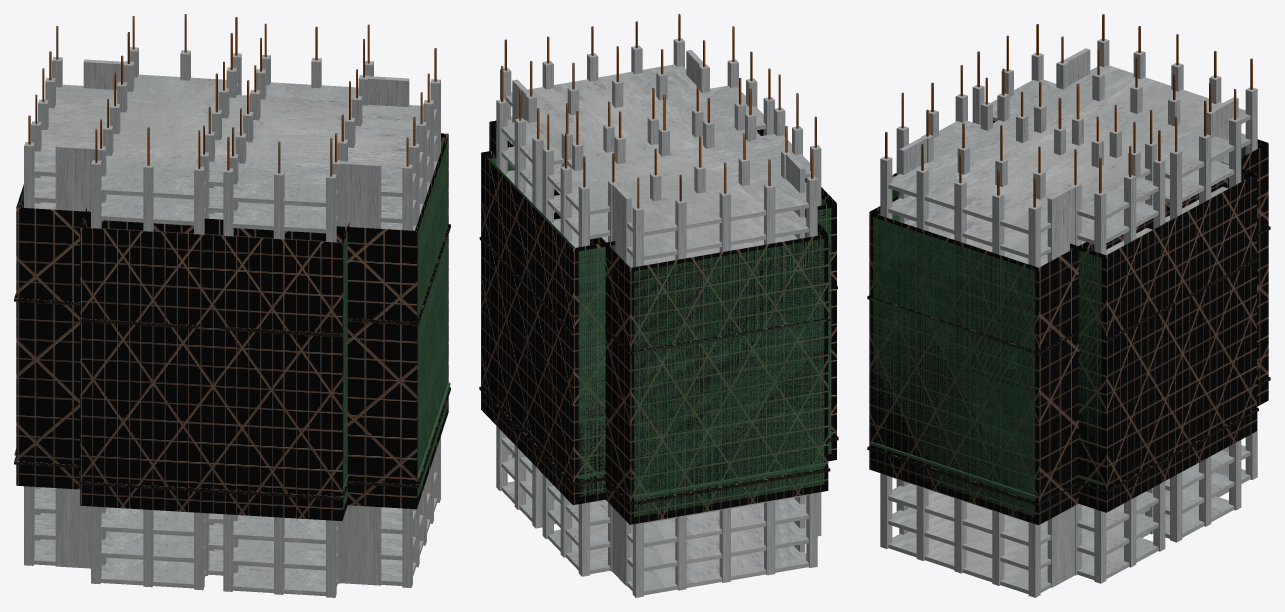
Rendered from syr2.fbx.
3 renders of one model, left to right at view 1: azimuth 30°, elevation 25°; view 2: azimuth 150°, elevation 25°; view 3: azimuth 270°, elevation 25°, orthographic. The views are drawn at different scales.
Visible parts, largest first — view 1: 建筑工地1防尘帄, syrplant, syrplan, 建筑工地1钢筋; view 2: 建筑工地1防尘帄, syrplant, syrplan, 建筑工地1钢筋; view 3: 建筑工地1防尘帄, syrplant, syrplan, 建筑工地1钢筋.
Part boxes in pixels (x1,y1,x2,y2): 建筑工地1防尘帄: [14, 133, 450, 520]; syrplant: [24, 47, 440, 597]; syrplan: [14, 139, 450, 509]; 建筑工地1钢筋: [28, 14, 436, 176]; 建筑工地1防尘帄: [479, 120, 838, 524]; syrplant: [496, 38, 821, 597]; syrplan: [487, 124, 832, 516]; 建筑工地1钢筋: [501, 14, 816, 208]; 建筑工地1防尘帄: [867, 121, 1270, 525]; syrplant: [880, 38, 1257, 597]; syrplan: [871, 143, 1263, 516]; 建筑工地1钢筋: [885, 14, 1252, 207].
Bounding box in the file's own units: 572 × 618 × 534.
Materials: 4 (4 with a texture image).
